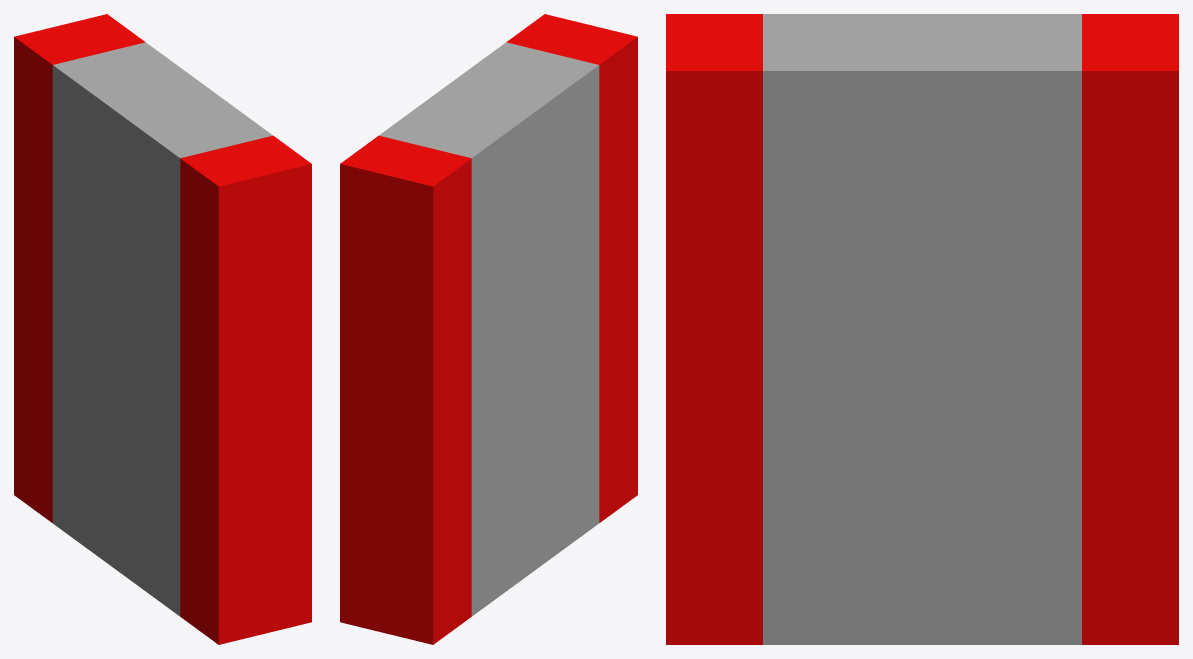
File: VisioMat.fbx
The picture shows the model from 3 angles, left to right: view 1: azimuth 30°, elevation 25°; view 2: azimuth 150°, elevation 25°; view 3: azimuth 270°, elevation 25°; orthographic projection. The views are drawn at different scales.
Parts seen in each view (by area): view 1: Cube; view 2: Cube; view 3: Cube.
Boxes of the visible parts, x1,y1,x2,y2 form: Cube: [14, 14, 311, 644]; Cube: [340, 14, 637, 644]; Cube: [666, 14, 1178, 644].
Size of the model in its own units: 154 by 726 by 588.
